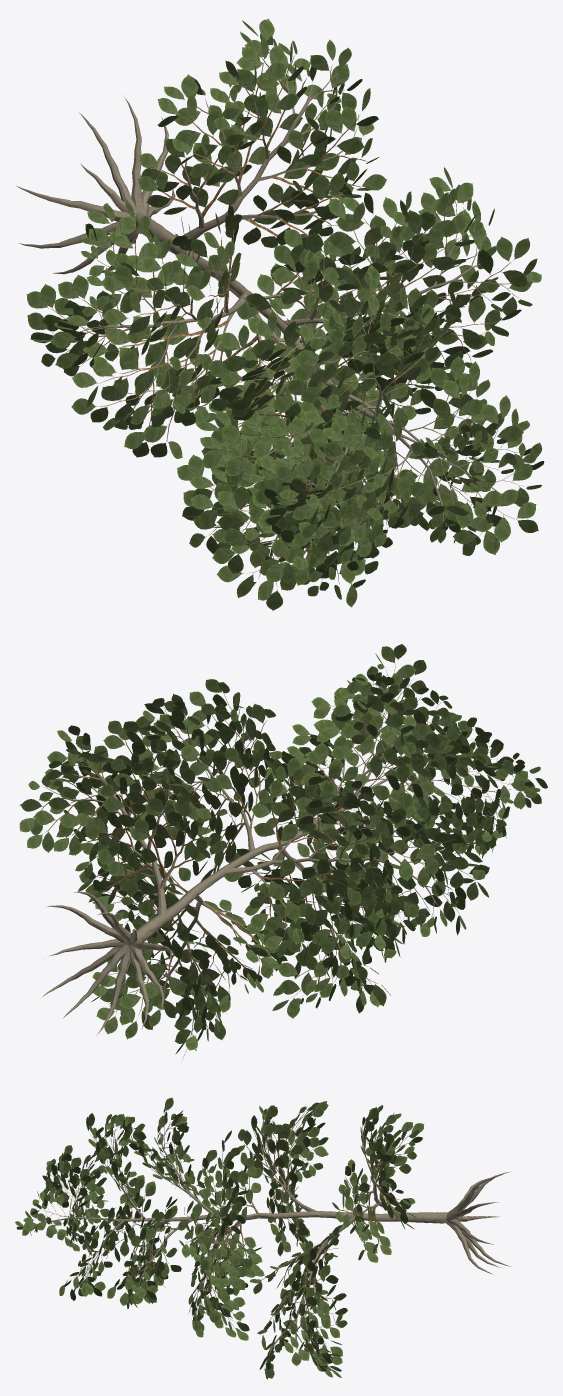
3 renders of one model, top to bottom at view 1: azimuth 30°, elevation 25°; view 2: azimuth 150°, elevation 25°; view 3: azimuth 270°, elevation 25°, orthographic. The views are drawn at different scales.
Visible parts, largest first — view 1: EU26y; view 2: EU26y; view 3: EU26y.
Boxes of the visible parts, bbox=[...] form: EU26y: bbox=[16, 18, 544, 610]; EU26y: bbox=[19, 644, 547, 1060]; EU26y: bbox=[15, 1097, 510, 1379].
Bounding box in the file's own units: 10.01 × 10.22 × 18.01.
Materials: 3 (3 with a texture image).
